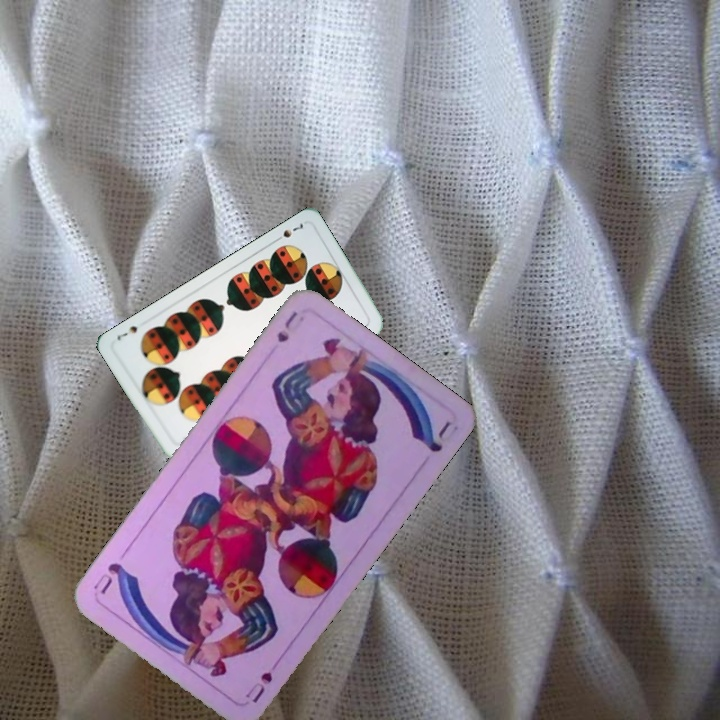S7: (270, 219, 306, 245)
SU: (241, 654, 282, 706), (273, 307, 300, 346)
